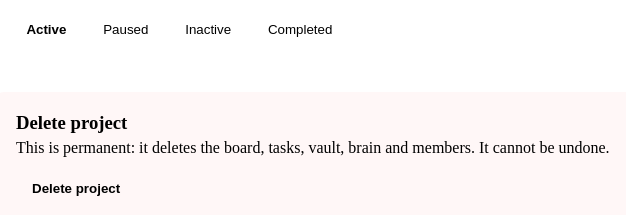
Test: ProjectLifecyclePanel › changes the status and refreshes
Click the button "Paused": (126, 30) [89, 16, 163, 44]
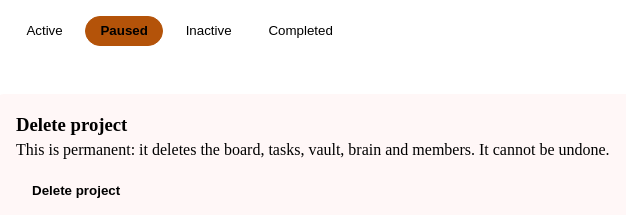
Now the button "Paused" is disabled, box [85, 16, 163, 46]
